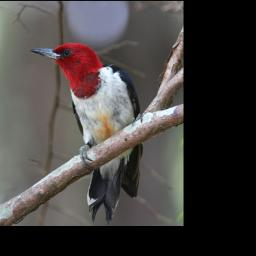Woodpecker: (30, 41, 143, 225)
